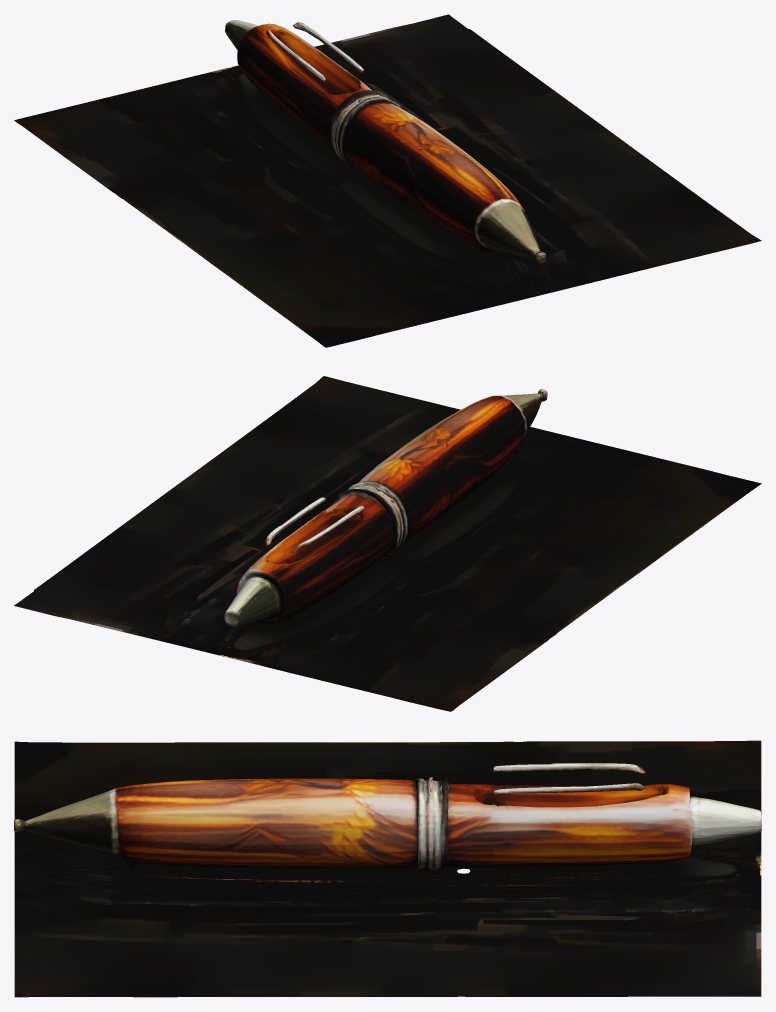
The model's file is wooden-pen-art-deco.jpeg.glb.
3 renders of one model, top to bottom at view 1: azimuth 30°, elevation 25°; view 2: azimuth 150°, elevation 25°; view 3: azimuth 270°, elevation 25°, orthographic. The views are drawn at different scales.
Visible parts, largest first — view 1: world; view 2: world; view 3: world.
Boxes of the visible parts, x1,y1,x2,y2 form: world: (14,14,761,347); world: (14,376,761,711); world: (14,740,761,997).
Size of the model in its own units: 0.8141 by 0.1425 by 1.
Materials: 1 (1 with a texture image).
